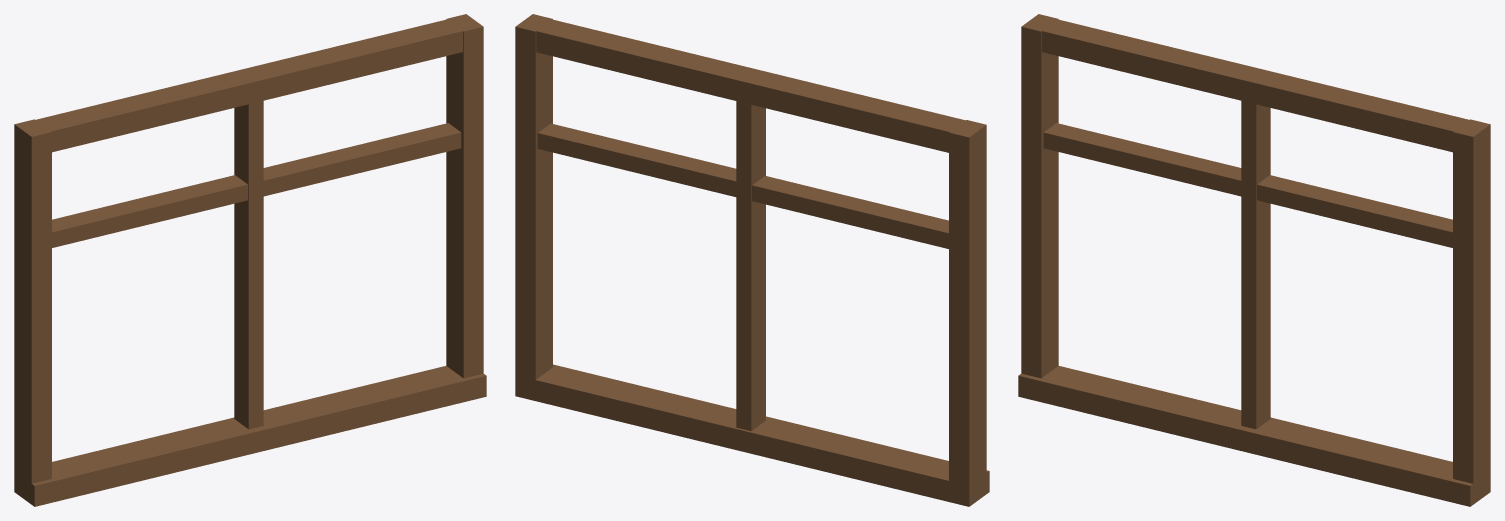
Rendered from SM_P0_Window_Frame_A.obj.
3 views of the same model, side by side, from view 1: azimuth 30°, elevation 25°; view 2: azimuth 150°, elevation 25°; view 3: azimuth 330°, elevation 25° (orthographic).
Visible parts, largest first — view 1: frame_sill, frame_head, jamb_l, jamb_r, transom, mullion; view 2: frame_sill, frame_head, jamb_l, jamb_r, transom, mullion; view 3: frame_sill, frame_head, jamb_r, jamb_l, transom, mullion.
Part boxes in pixels (x1,y1,x2,y2): frame_sill: (14, 366, 486, 506); frame_head: (15, 15, 477, 154); jamb_l: (14, 119, 51, 504); jamb_r: (446, 14, 483, 378); transom: (52, 123, 461, 247); mullion: (234, 101, 263, 429); frame_sill: (515, 364, 989, 504); frame_head: (516, 16, 983, 157); jamb_l: (949, 120, 986, 506); jamb_r: (515, 14, 552, 400); transom: (537, 123, 948, 248); mullion: (736, 101, 765, 431); frame_sill: (1018, 366, 1490, 506); frame_head: (1025, 15, 1489, 152); jamb_r: (1453, 119, 1490, 504); jamb_l: (1021, 14, 1058, 378); transom: (1043, 123, 1452, 247); mullion: (1241, 101, 1270, 429).
Size of the model in its own units: 1.8 by 1.4 by 0.14.
